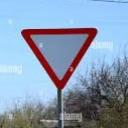preferencia: (18, 26, 101, 92)
